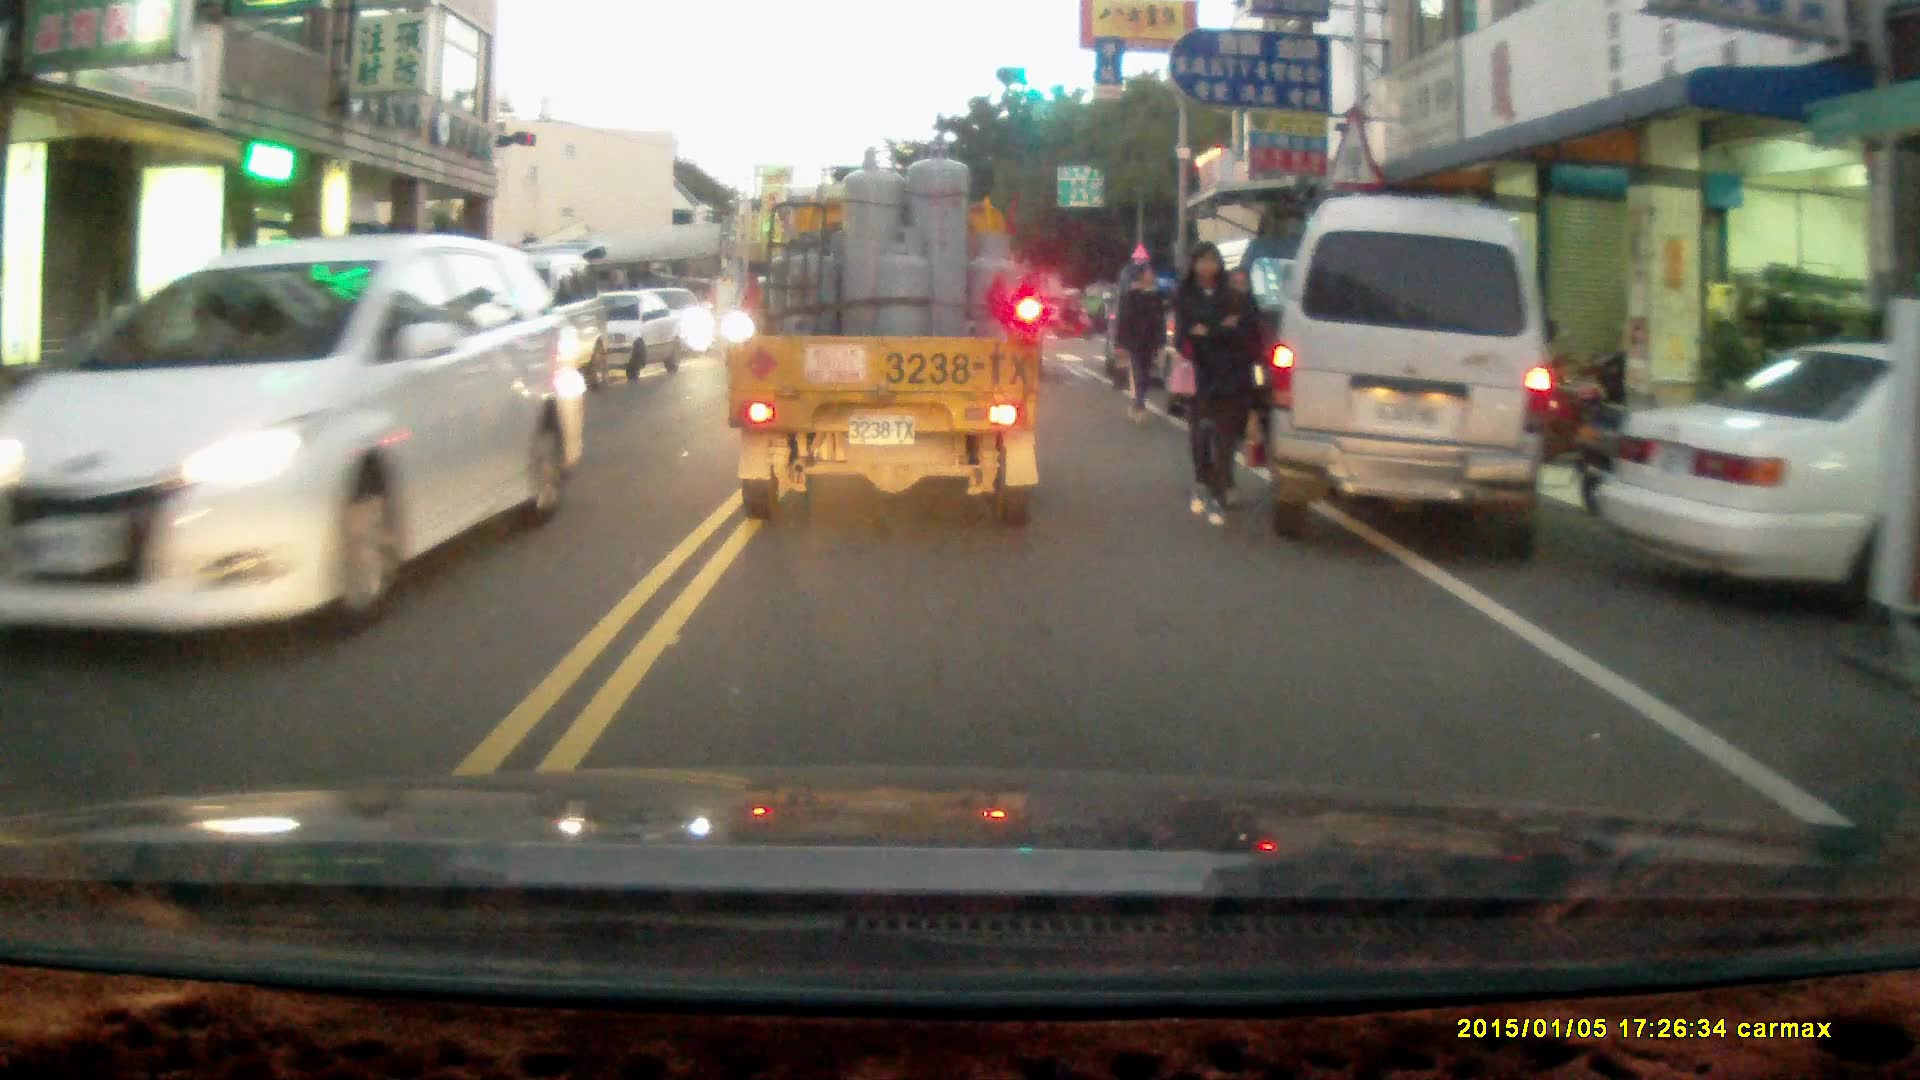pedestrian: (1170, 240, 1249, 530), (1114, 260, 1167, 425)
rider: (1053, 288, 1094, 341)
vehicle: (1, 236, 586, 635), (720, 139, 1049, 531), (1259, 195, 1558, 562), (1596, 340, 1920, 619), (541, 287, 686, 386)
